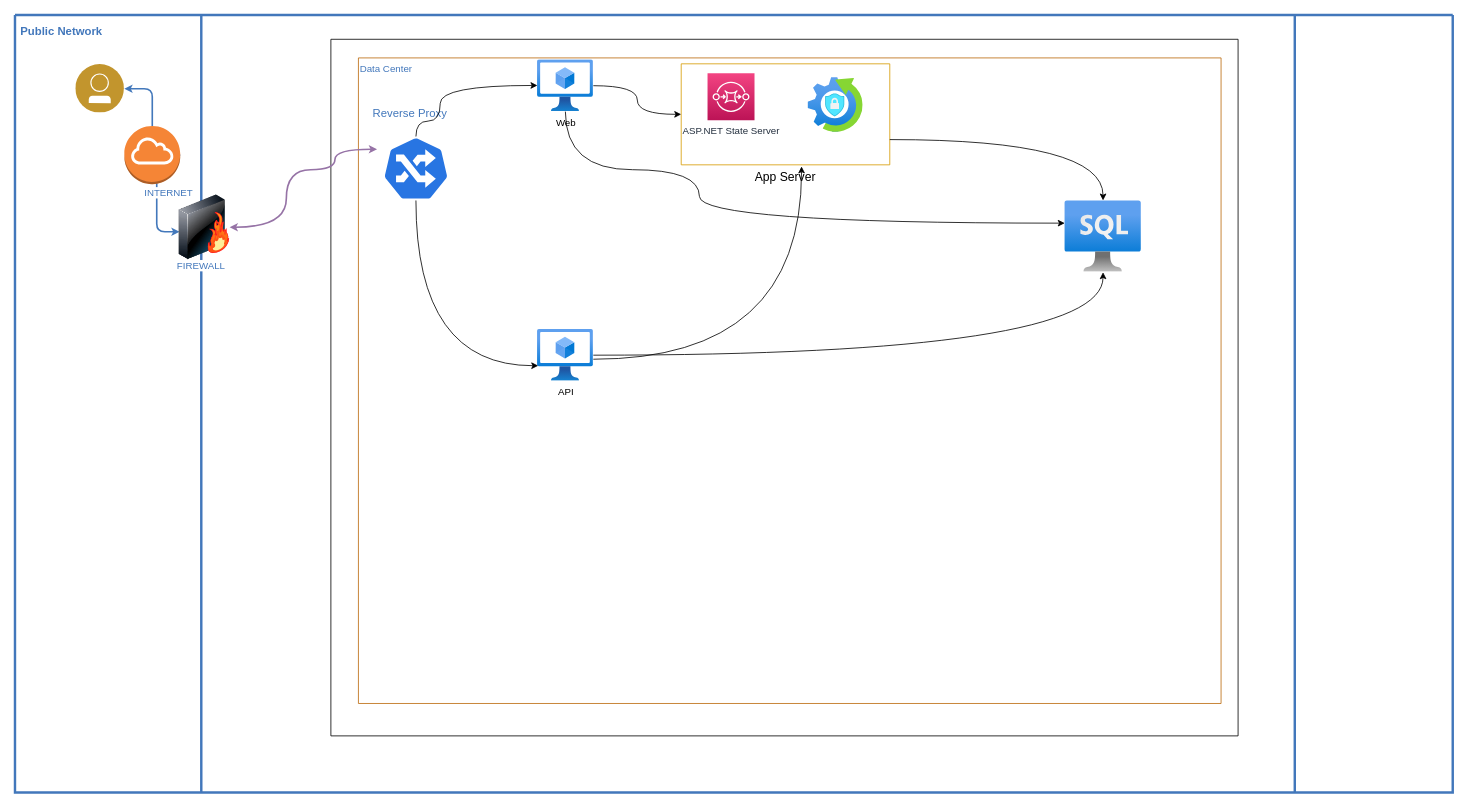
This 1468x808 diagram has some shape labels left out. Each missing label, with the centre of its shape:
"Background Services" goes at (835,104).
"Database Server" goes at (1102,236).
"USER" goes at (99,88).
